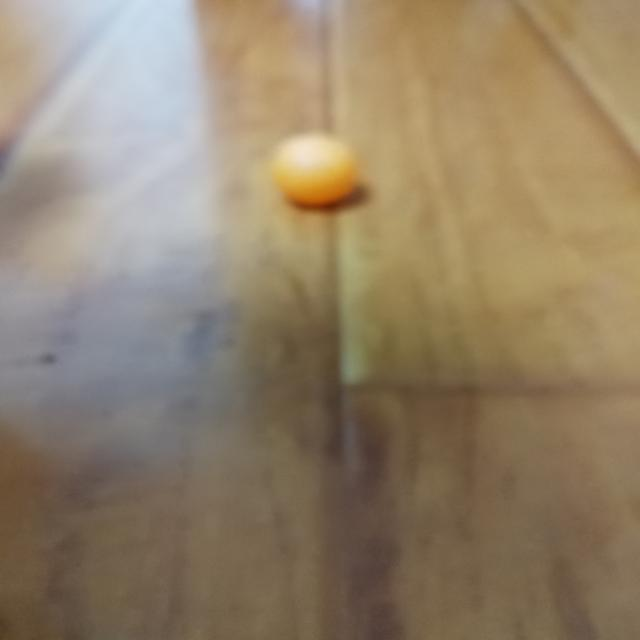oball: (270, 134, 359, 208)
